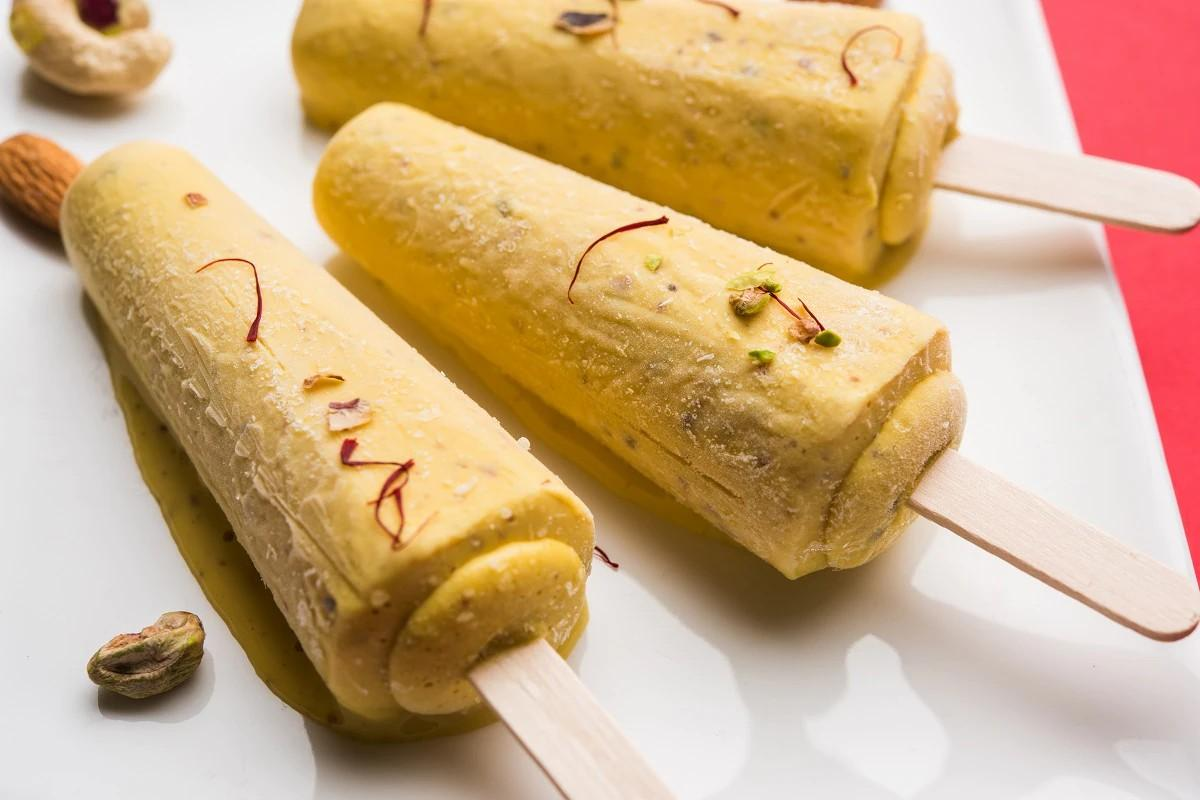Kulfi: (57, 134, 593, 734), (309, 99, 966, 580), (293, 0, 954, 278)
